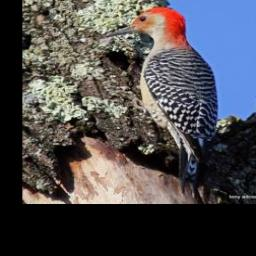Woodpecker: (105, 5, 220, 192)
